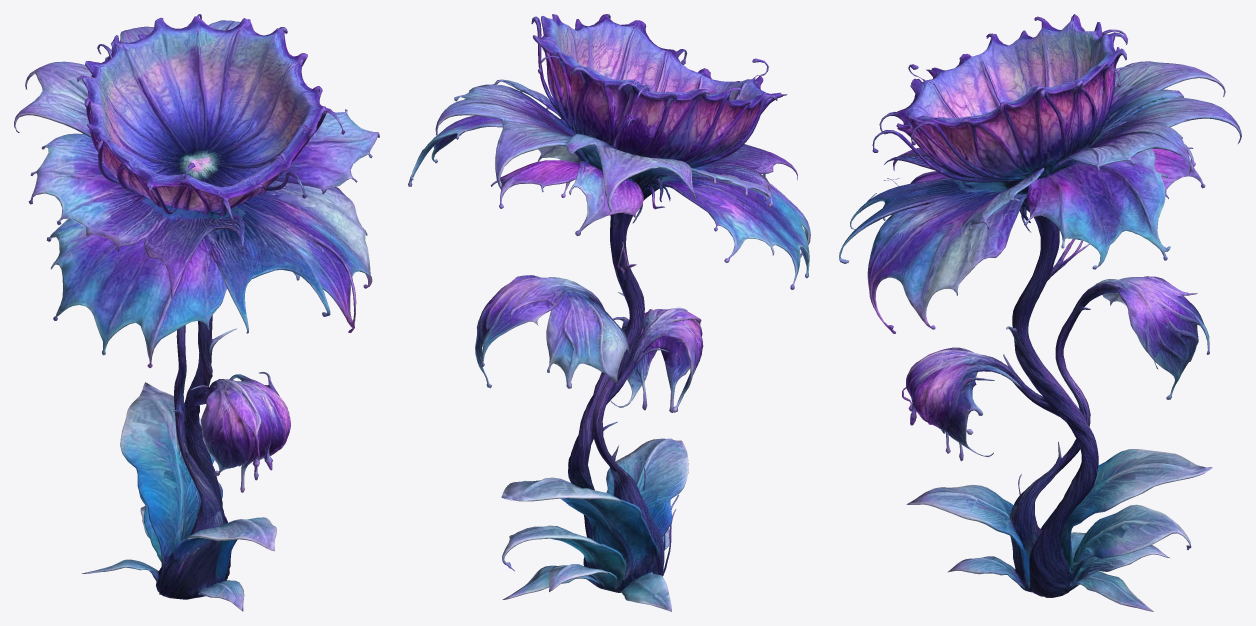
The model's file is Nebula_Bloom.glb.
3 renders of one model, left to right at view 1: azimuth 30°, elevation 25°; view 2: azimuth 150°, elevation 25°; view 3: azimuth 270°, elevation 25°, orthographic.
Visible parts, largest first — view 1: Nebula_Bloom; view 2: Nebula_Bloom; view 3: Nebula_Bloom.
Boxes of the visible parts, x1,y1,x2,y2 form: Nebula_Bloom: (14, 14, 379, 611); Nebula_Bloom: (408, 14, 810, 611); Nebula_Bloom: (839, 14, 1241, 611).
Bounding box in the file's own units: 1.18 × 1.9 × 1.29.
Materials: 1 (1 with a texture image).
